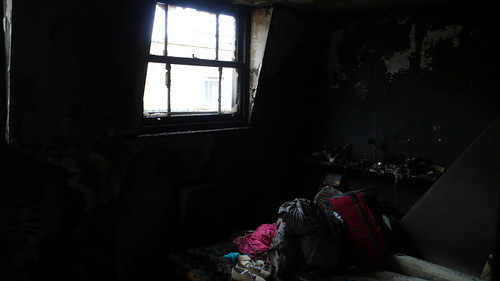trash: (38, 149, 399, 281)
window: (142, 1, 246, 130)
